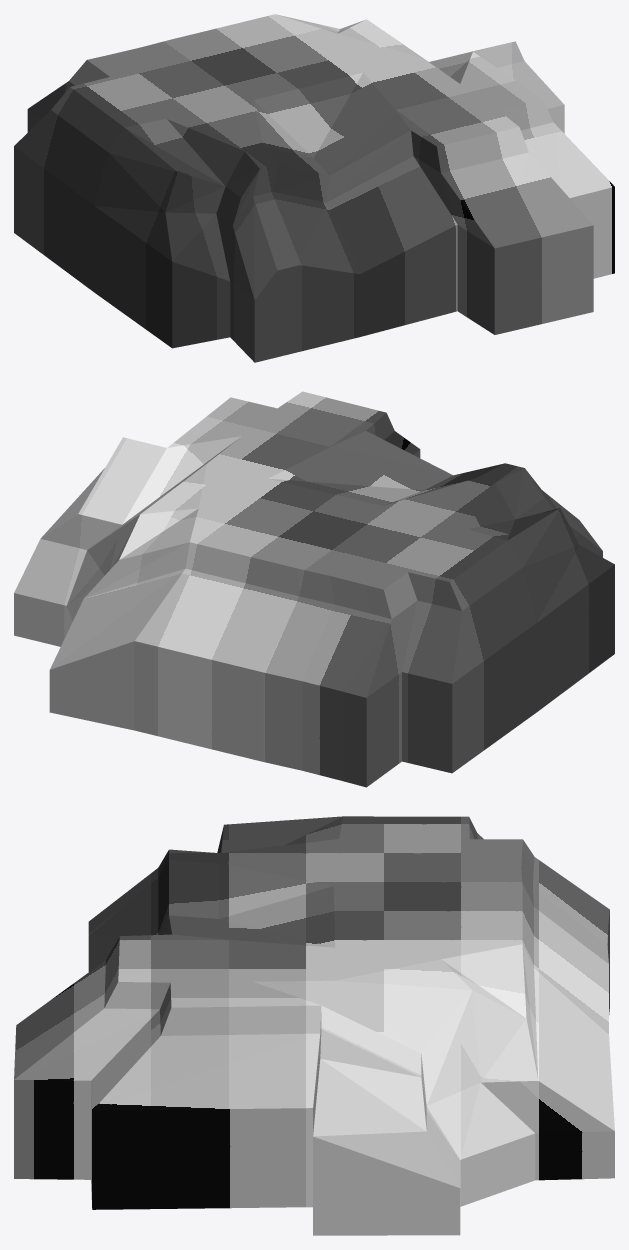
Rendered from Rock_331x04.gltf.
3 renders of one model, top to bottom at view 1: azimuth 30°, elevation 25°; view 2: azimuth 150°, elevation 25°; view 3: azimuth 270°, elevation 25°, orthographic. The views are drawn at different scales.
Visible parts, largest first — view 1: Rock_331x04; view 2: Rock_331x04; view 3: Rock_331x04.
Boxes of the visible parts, x1,y1,x2,y2 form: Rock_331x04: [14, 14, 614, 362]; Rock_331x04: [14, 391, 614, 787]; Rock_331x04: [14, 816, 614, 1235].
Bounding box in the file's own units: 0.598 × 0.1984 × 0.5968.
1 material, 1 textured.
